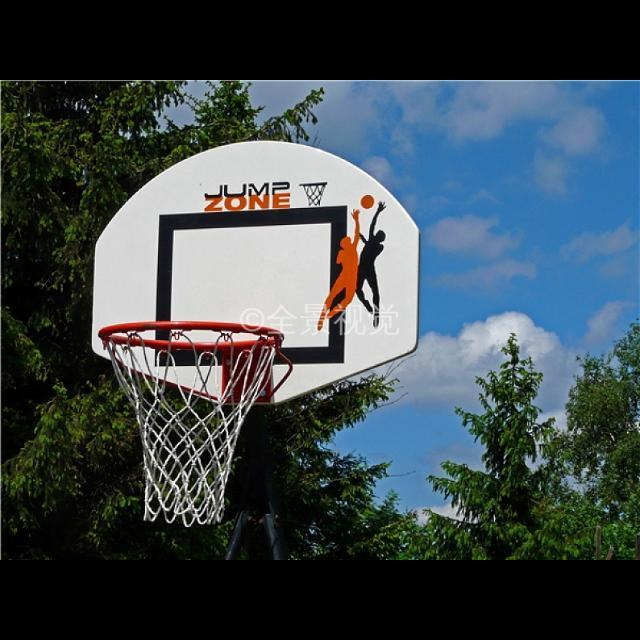rim: (100, 320, 282, 528)
